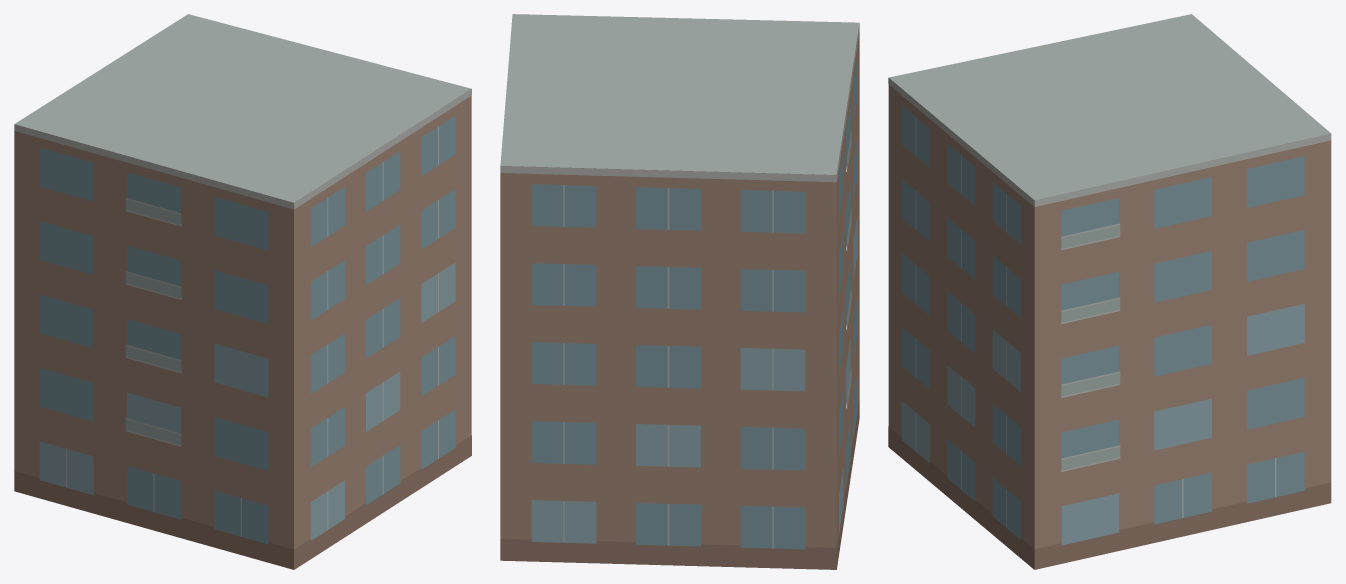
Rendered from survey-upis-33023210.glb.
The picture shows the model from 3 angles, left to right: view 1: azimuth 30°, elevation 25°; view 2: azimuth 150°, elevation 25°; view 3: azimuth 270°, elevation 25°; orthographic projection. The views are drawn at different scales.
Parts seen in each view (by area): view 1: survey-upis-33023210.tmp; view 2: survey-upis-33023210.tmp; view 3: survey-upis-33023210.tmp.
Boxes of the visible parts, x1=… form: survey-upis-33023210.tmp: x1=14, y1=14, x2=471, y2=569; survey-upis-33023210.tmp: x1=500, y1=14, x2=859, y2=569; survey-upis-33023210.tmp: x1=888, y1=14, x2=1331, y2=569.
Size of the model in its own units: 14.48 by 13.38 by 14.54.
